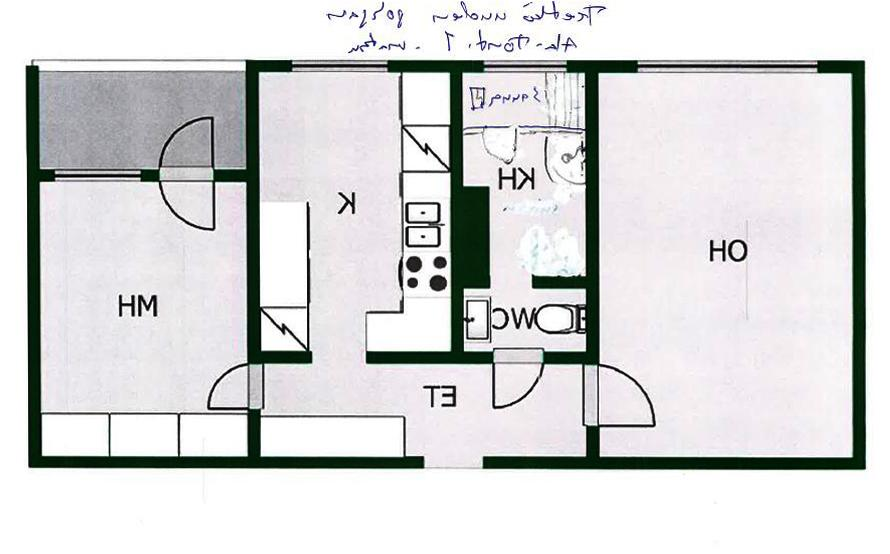bathroom: (462, 284, 592, 354)
door: (580, 363, 656, 431), (485, 346, 548, 412), (156, 112, 218, 179), (156, 171, 218, 234), (202, 362, 267, 412)
perimeter: (29, 61, 866, 467)
window: (630, 56, 825, 79), (46, 165, 148, 188), (476, 55, 574, 78), (284, 58, 394, 76), (412, 454, 492, 476)
